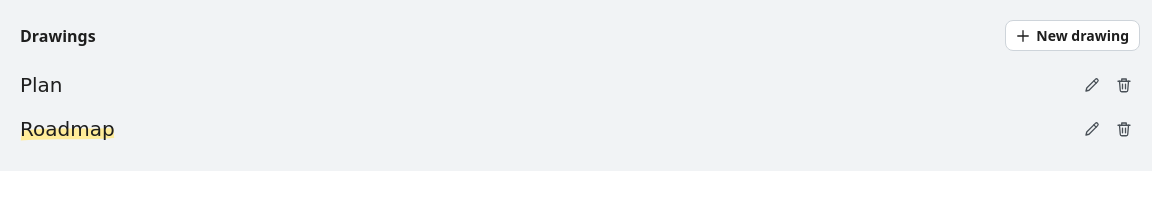
Scenario: DrawingList › deletes a drawing after confirmation
Click the button named "Delete Roadmap" at (1124, 129), box x1=1108 y1=113 x2=1140 y2=145
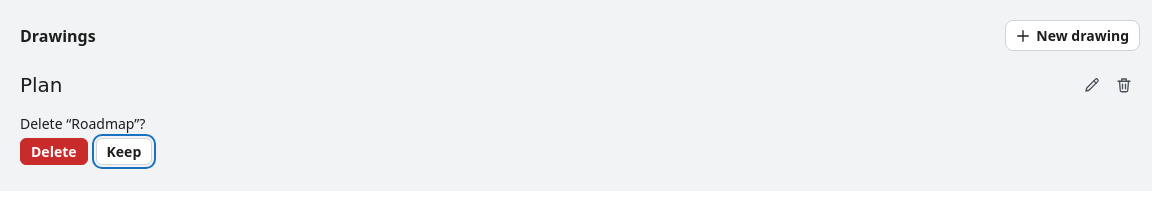
Expected: the text "Delete “Roadmap”?" is shown, x1=20 y1=114 x2=145 y2=133
Click the button "Delete" at (54, 152), box x1=20 y1=138 x2=88 y2=165
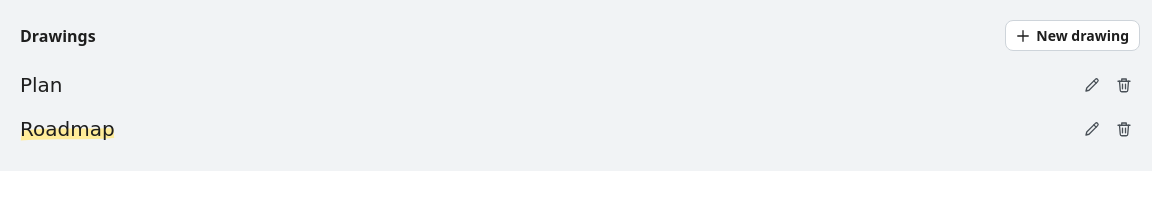
Expected: the text "Delete “Roadmap”?" is gone
